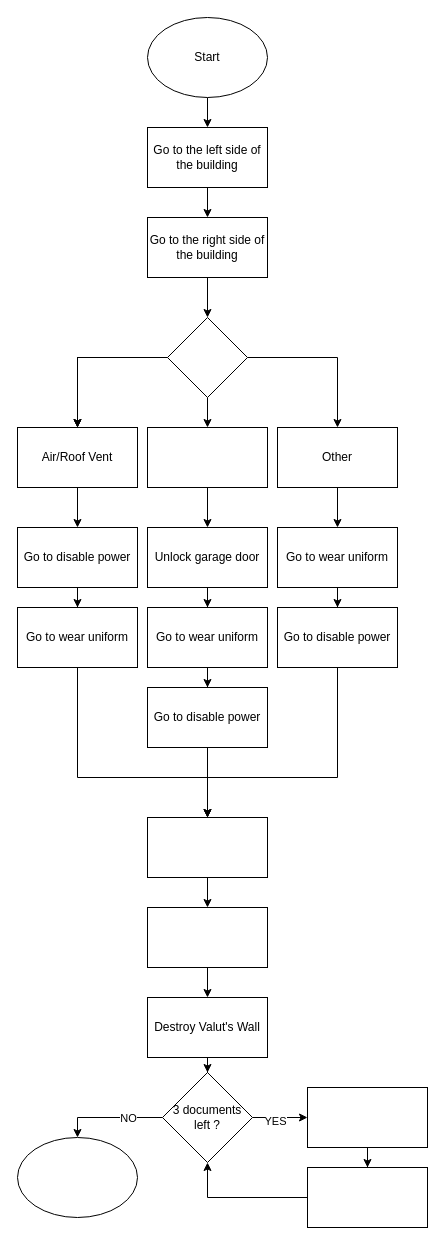
Some shapes in this 445 by 1245 pixel diagram are drawn without their labels. The shapes that lost their labels are listed below. From the top down, each one's centre as x and y in pixels, then its label:
At (x=207, y=357): "Entry Choince".
At (x=207, y=457): "Van/Supply Chain".
At (x=207, y=847): "Go to Master Key Card".
At (x=207, y=937): "Go to Vault's Door".
At (x=367, y=1117): "Go to documents".
At (x=77, y=1177): "END".
At (x=367, y=1197): "Tansfer documents to Van".
